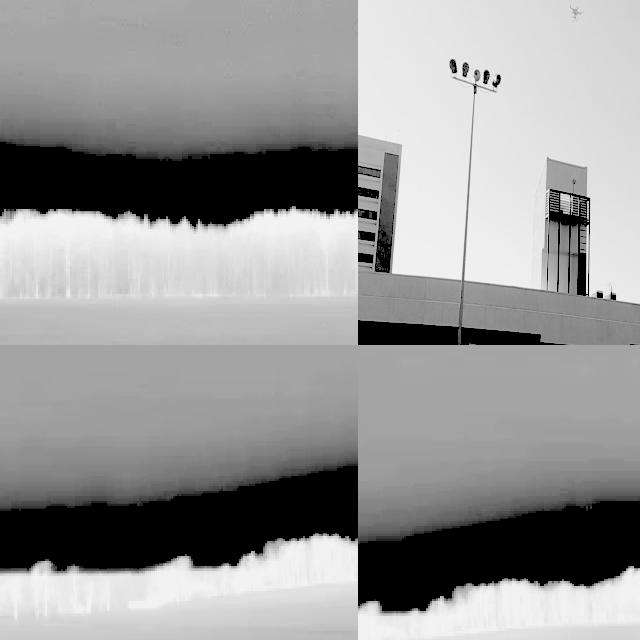drone: (564, 4, 583, 28)
